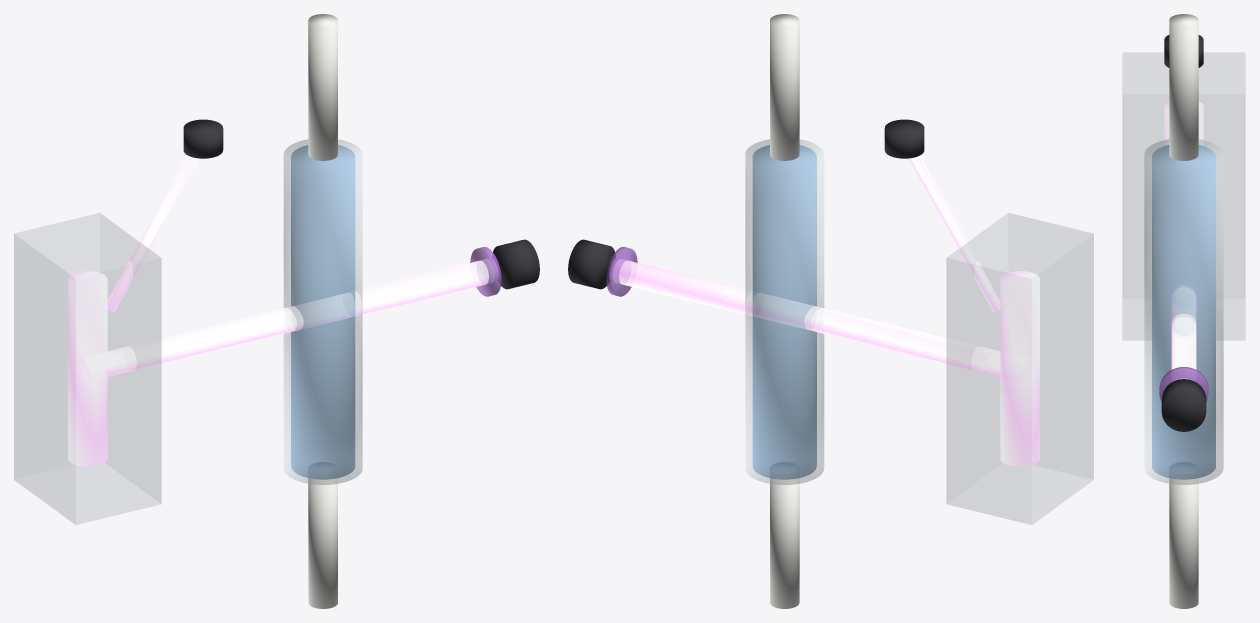
Rendered from ozone.glb.
3 renders of one model, left to right at view 1: azimuth 30°, elevation 25°; view 2: azimuth 150°, elevation 25°; view 3: azimuth 270°, elevation 25°, orthographic.
Parts seen in each view (by area): view 1: 灯罩, 石英流通池, 流通池_液, 紫外光束, 低压汞灯, 出口, 入口, 参比光, 测量光电二极管, 参比光电二极管, 滤光片; view 2: 灯罩, 石英流通池, 流通池_液, 紫外光束, 低压汞灯, 出口, 入口, 参比光, 测量光电二极管, 参比光电二极管, 滤光片; view 3: 石英流通池, 灯罩, 流通池_液, 出口, 入口, 紫外光束, 测量光电二极管, 滤光片, 低压汞灯, 参比光电二极管.
Part boxes in pixels (x1=…): 灯罩: x1=14, y1=213, x2=161, y2=524; 石英流通池: x1=284, y1=139, x2=362, y2=484; 流通池_液: x1=291, y1=145, x2=355, y2=479; 紫外光束: x1=80, y1=259, x2=495, y2=380; 低压汞灯: x1=68, y1=271, x2=107, y2=466; 出口: x1=308, y1=14, x2=337, y2=160; 入口: x1=308, y1=462, x2=337, y2=608; 参比光: x1=107, y1=155, x2=199, y2=312; 测量光电二极管: x1=492, y1=239, x2=539, y2=289; 参比光电二极管: x1=183, y1=119, x2=223, y2=158; 滤光片: x1=470, y1=247, x2=501, y2=296; 灯罩: x1=946, y1=213, x2=1093, y2=524; 石英流通池: x1=745, y1=139, x2=823, y2=484; 流通池_液: x1=752, y1=145, x2=816, y2=479; 紫外光束: x1=612, y1=259, x2=1027, y2=380; 低压汞灯: x1=1000, y1=271, x2=1039, y2=466; 出口: x1=770, y1=14, x2=799, y2=160; 入口: x1=770, y1=462, x2=799, y2=608; 参比光: x1=908, y1=155, x2=1000, y2=312; 测量光电二极管: x1=568, y1=239, x2=615, y2=289; 参比光电二极管: x1=884, y1=119, x2=924, y2=158; 滤光片: x1=606, y1=247, x2=637, y2=296; 石英流通池: x1=1144, y1=139, x2=1223, y2=484; 灯罩: x1=1122, y1=52, x2=1245, y2=340; 流通池_液: x1=1152, y1=145, x2=1215, y2=479; 出口: x1=1169, y1=14, x2=1198, y2=160; 入口: x1=1169, y1=462, x2=1198, y2=608; 紫外光束: x1=1171, y1=284, x2=1196, y2=379; 测量光电二极管: x1=1161, y1=379, x2=1206, y2=431; 滤光片: x1=1159, y1=367, x2=1208, y2=401; 低压汞灯: x1=1164, y1=101, x2=1203, y2=145; 参比光电二极管: x1=1164, y1=35, x2=1203, y2=67.
Bounding box in the file's own units: 1.13 × 1.3 × 0.25.
